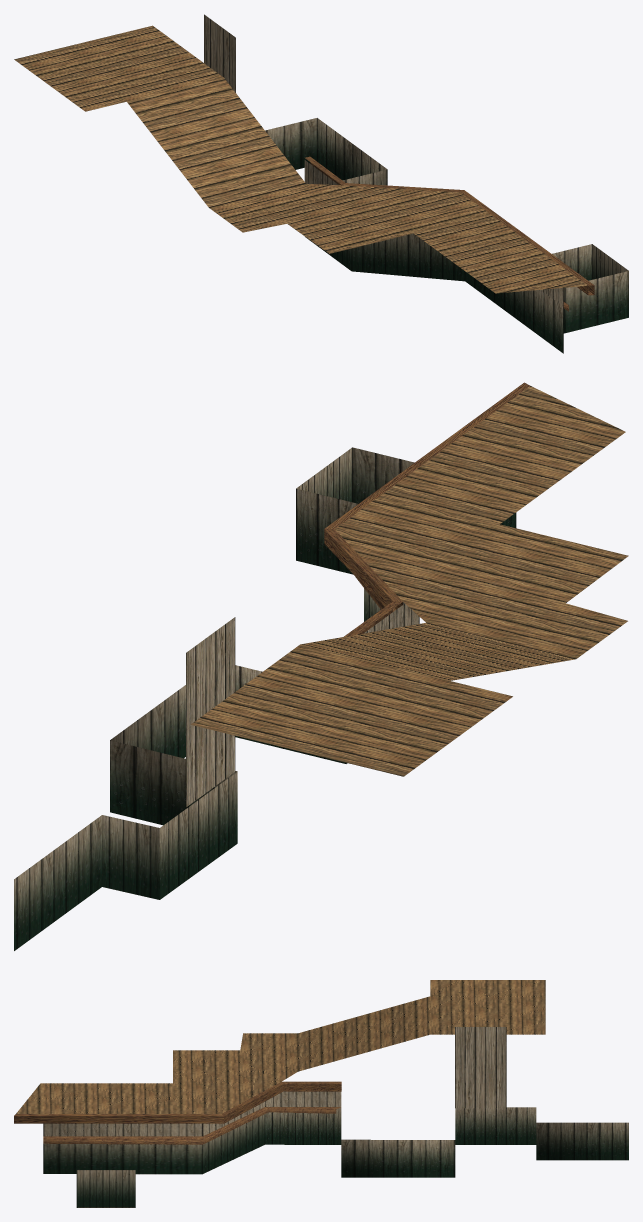
The model's file is LAKETOWN_EXTERIOR_PS_LT_PIERPARTS756__GX.fbx.
3 renders of one model, top to bottom at view 1: azimuth 30°, elevation 25°; view 2: azimuth 150°, elevation 25°; view 3: azimuth 270°, elevation 25°, orthographic. The views are drawn at different scales.
Parts seen in each view (by area): view 1: LAKETOWN_EXTERIOR_PS_LT_PIERPARTS756__GX; view 2: LAKETOWN_EXTERIOR_PS_LT_PIERPARTS756__GX; view 3: LAKETOWN_EXTERIOR_PS_LT_PIERPARTS756__GX.
Part boxes in pixels (x1=…): LAKETOWN_EXTERIOR_PS_LT_PIERPARTS756__GX: x1=14, y1=14, x2=628, y2=353; LAKETOWN_EXTERIOR_PS_LT_PIERPARTS756__GX: x1=14, y1=382, x2=628, y2=950; LAKETOWN_EXTERIOR_PS_LT_PIERPARTS756__GX: x1=14, y1=980, x2=628, y2=1207.
Bounding box in the file's own units: 175560 × 76392 × 357669.
5 materials, 5 textured.
